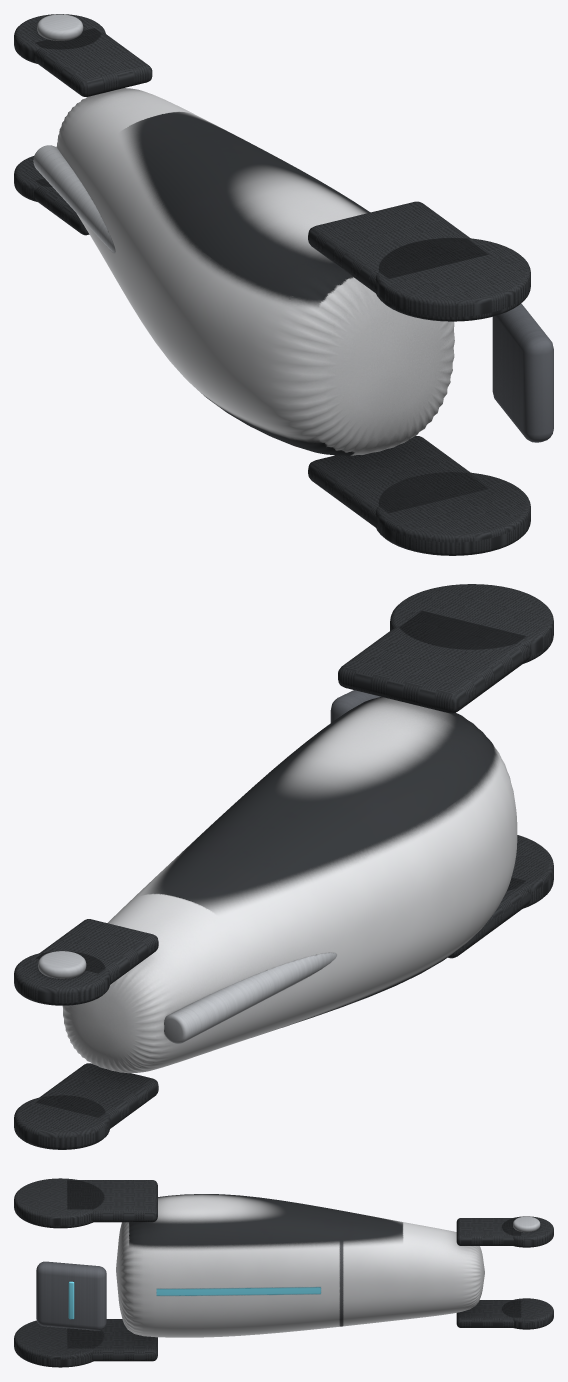
Rendered from right_shin.obj.
The picture shows the model from 3 angles, top to bottom: view 1: azimuth 30°, elevation 25°; view 2: azimuth 150°, elevation 25°; view 3: azimuth 270°, elevation 25°; orthographic projection. The views are drawn at different scales.
Parts seen in each view (by area): view 1: right_shin; view 2: right_shin; view 3: right_shin.
Boxes of the visible parts, x1,y1,x2,y2 form: right_shin: [14, 14, 553, 555]; right_shin: [14, 584, 553, 1149]; right_shin: [14, 1178, 553, 1367].
Size of the model in its own units: 0.119 by 0.122 by 0.394.
Materials: 1 (1 with a texture image).
